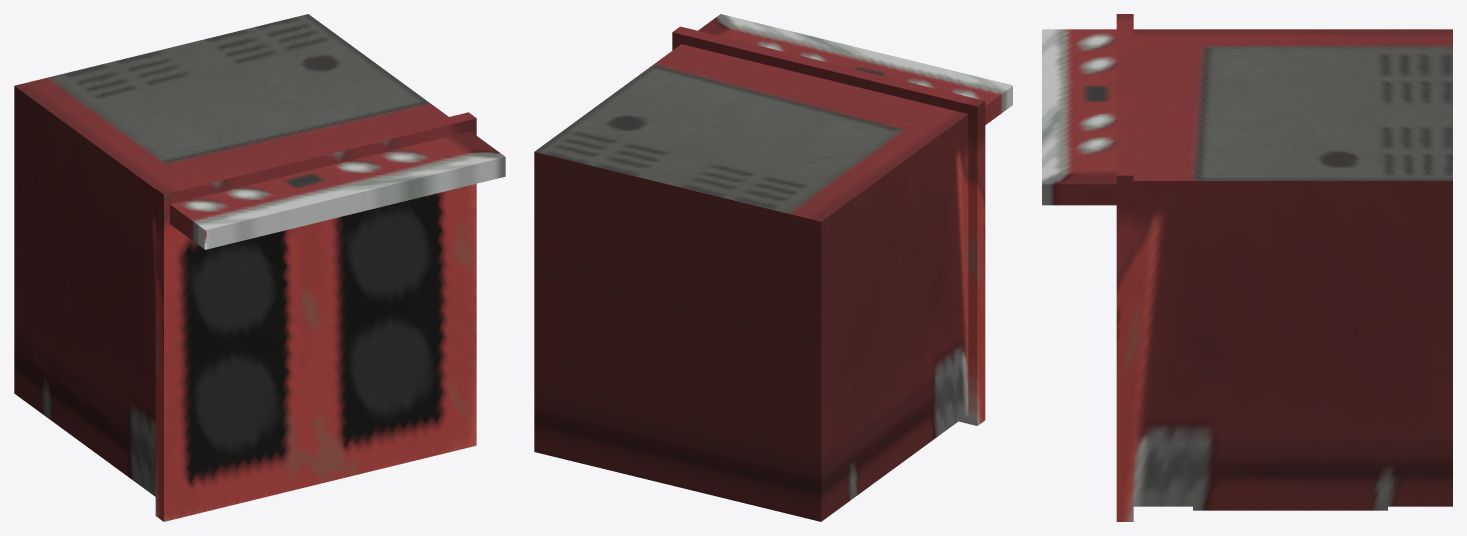
The model's file is pz_stove_red.obj.
3 renders of one model, left to right at view 1: azimuth 30°, elevation 25°; view 2: azimuth 150°, elevation 25°; view 3: azimuth 270°, elevation 25°, orthographic. The views are drawn at different scales.
Size of the model in its own units: 1 by 1 by 1.08.
1 material, 1 textured.
